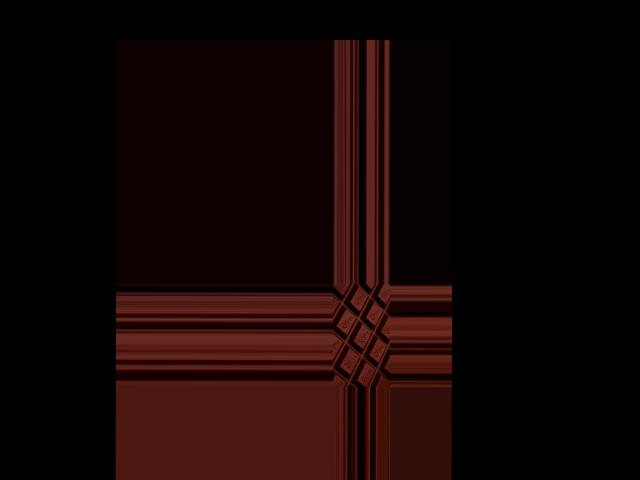chocolate: (331, 286, 388, 387)
